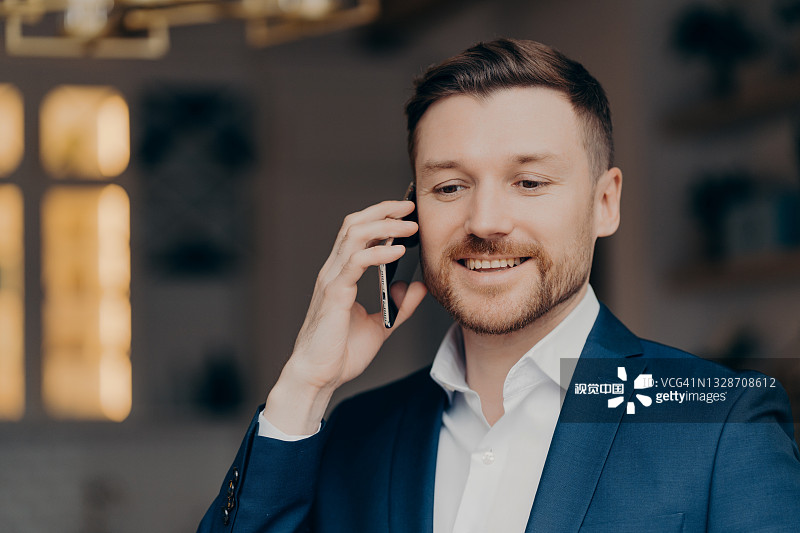calling: (270, 179, 442, 416)
